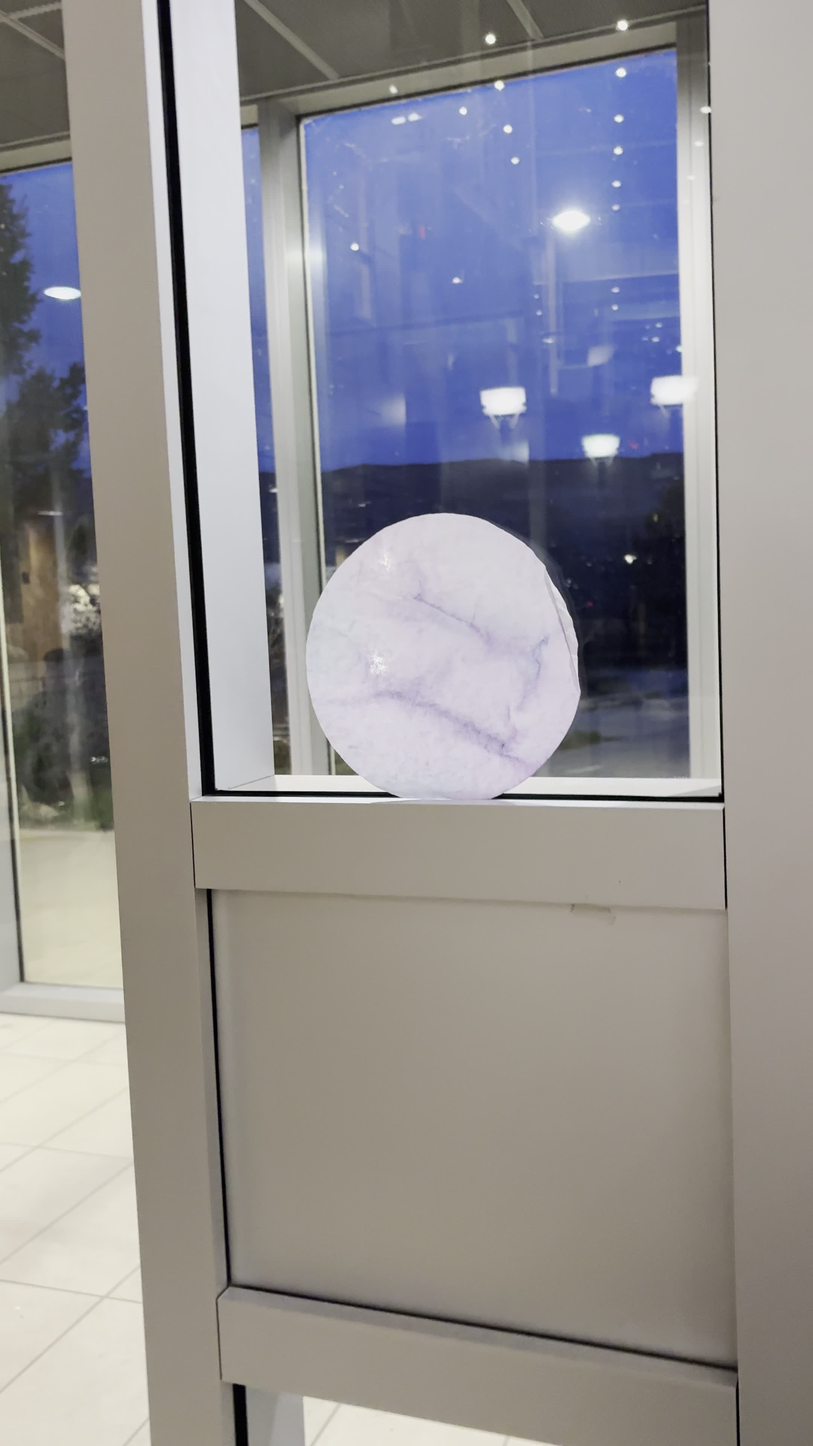Target: (304, 513, 580, 802)
